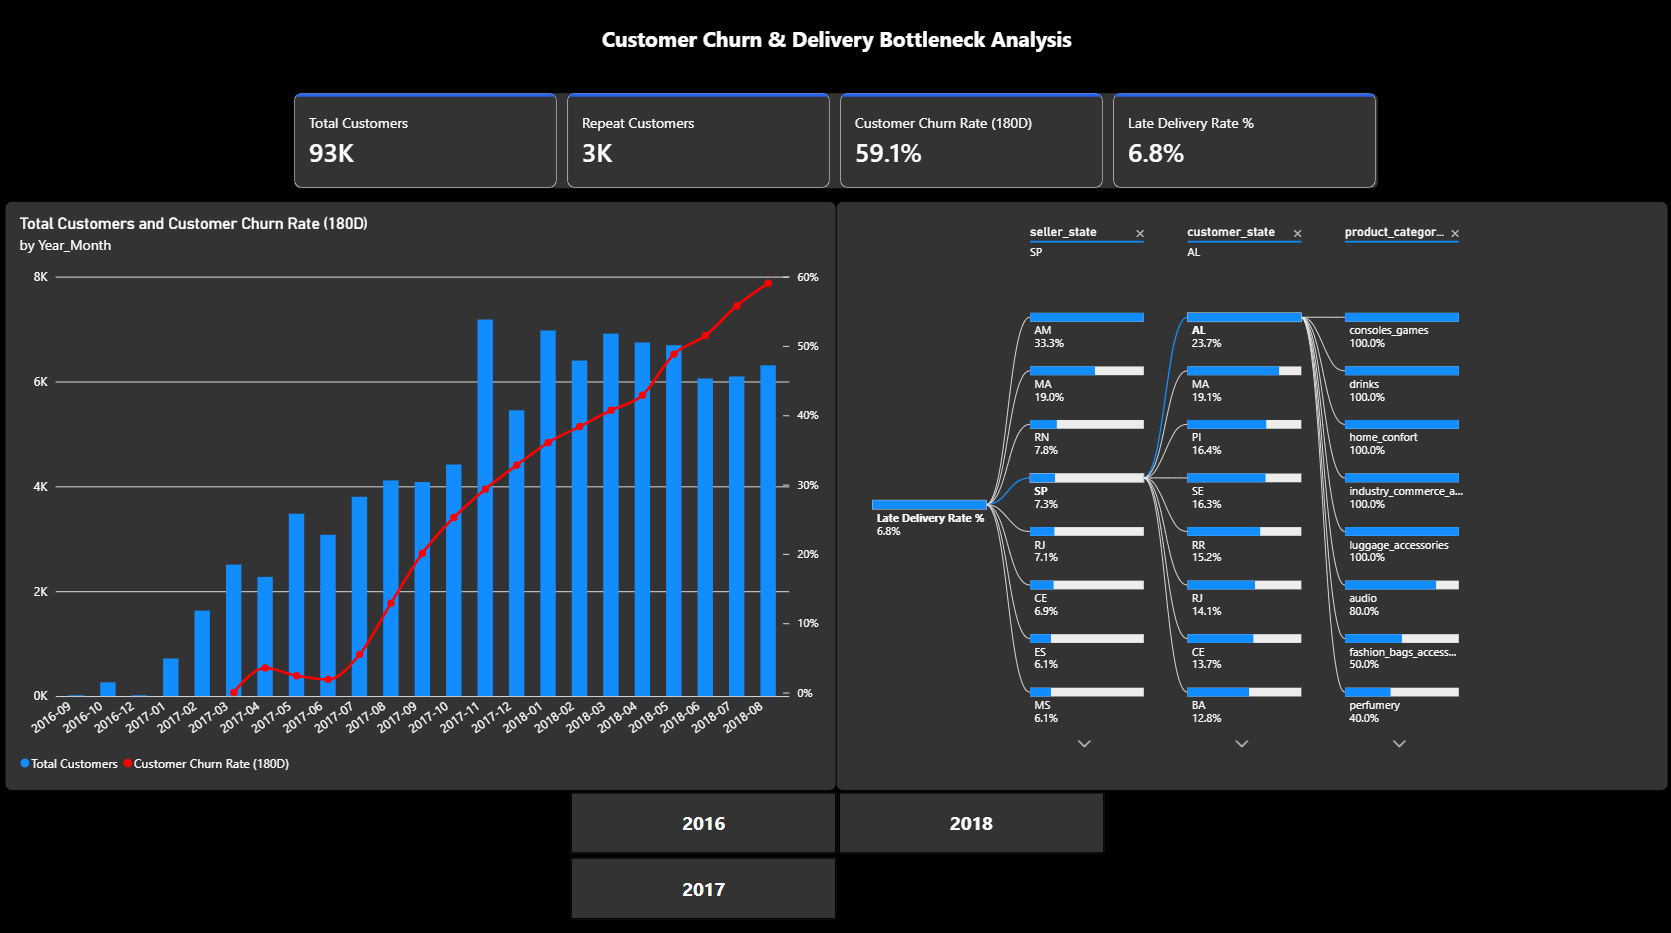

The page's visual inventory and layout, read from the dashboard file:
{"tool":"powerbi","page":{"name":"Retention & Delivery Impact","canvas":[1920,1080],"ordinal":1},"visuals":[{"type":"textbox","box":[543.5,34.6,835.9,50.5],"z":0},{"type":"slicer","fields":{"Values":["Dim_Calendar.Year"]},"box":[635.2,909,650,150],"z":1},{"type":"cardVisual","fields":{"Data":["_Measures.Total Customers","_Measures.Repeat Customers","_Measures.Customer Churn Rate (180D)","_Measures.Late Delivery Rate %"]},"box":[340.2,111.6,1240,110],"z":2},{"type":"lineClusteredColumnComboChart","fields":{"Category":["Dim_Calendar.Year_Month"],"Y":["_Measures.Total Customers"],"Y2":["_Measures.Customer Churn Rate (180D)"]},"box":[9.3,235.2,950.2,673.8],"z":3},{"type":"decompositionTreeVisual","fields":{"Analyze":["_Measures.Late Delivery Rate %"],"ExplainBy":["Dim_Sellers.seller_state","Dim_Customers.customer_state","Dim_Products.product_category_name_english"]},"box":[959.5,235.2,951.5,673.8],"z":4}]}

Visuals, with their boxes in screenshot pixels (x1, y1, x2, y2), scaled from the page's 1920x1080 canvas onto the 1671x933 screenshot:
textbox: {"x1": 473, "y1": 30, "x2": 1201, "y2": 74}
slicer - Dim_Calendar.Year: {"x1": 553, "y1": 785, "x2": 1119, "y2": 915}
cardVisual - _Measures.Total Customers x _Measures.Repeat Customers: {"x1": 296, "y1": 96, "x2": 1375, "y2": 191}
lineClusteredColumnComboChart - Dim_Calendar.Year_Month x _Measures.Total Customers: {"x1": 8, "y1": 203, "x2": 835, "y2": 785}
decompositionTreeVisual - _Measures.Late Delivery Rate % x Dim_Sellers.seller_state: {"x1": 835, "y1": 203, "x2": 1663, "y2": 785}
